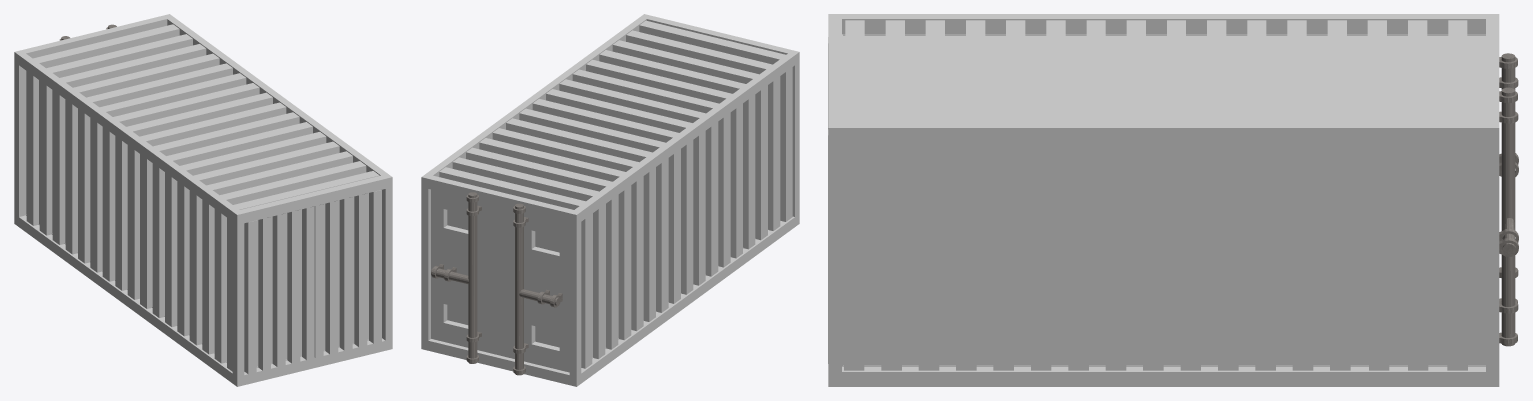
File: 20feetTemasline.fbx
3 renders of one model, left to right at view 1: azimuth 30°, elevation 25°; view 2: azimuth 150°, elevation 25°; view 3: azimuth 270°, elevation 25°, orthographic. The views are drawn at different scales.
Visible parts, largest first — view 1: Cube; view 2: Cube; view 3: Cube.
Boxes of the visible parts, <box> form: Cube: <box>14,14,392,386</box>; Cube: <box>421,14,799,386</box>; Cube: <box>828,14,1518,386</box>.
Size of the model in its own units: 244 by 259 by 624.
